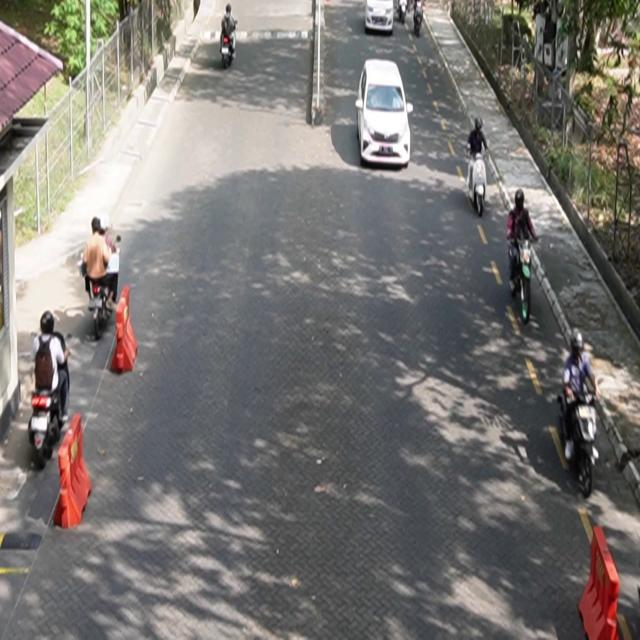car: (356, 59, 414, 168)
